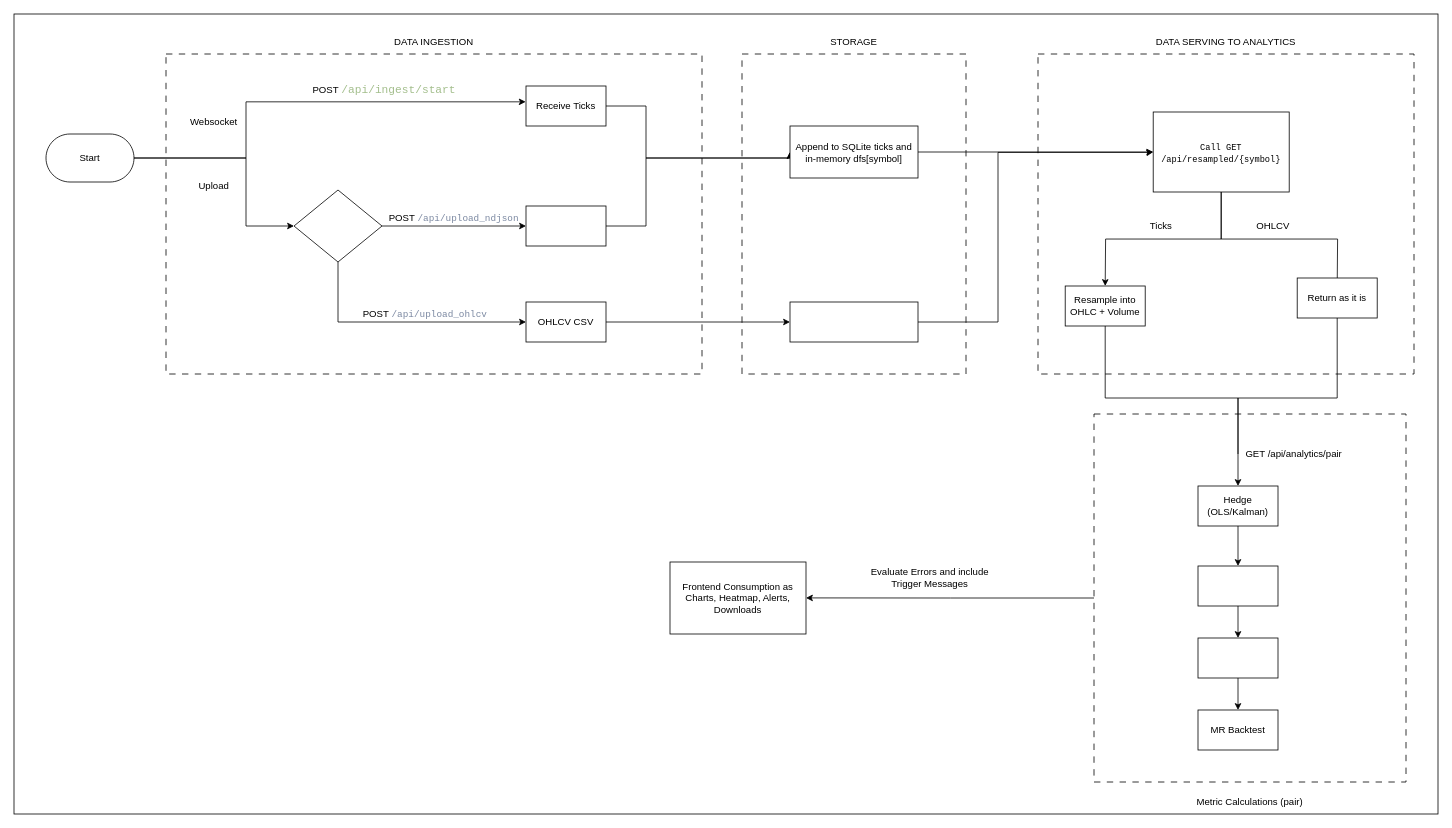
This 1452x828 diagram has some shape labels left out. The box of each missing label's shape, as (x1, y1, x2, y2) in pixels:
Choose Upload Type: (293, 189, 382, 262)
Keep in memory: (789, 301, 918, 342)
NDJSON ticks: (525, 205, 606, 246)
Rolling Z-score: (1197, 637, 1278, 678)
Spread: (1197, 565, 1278, 606)
